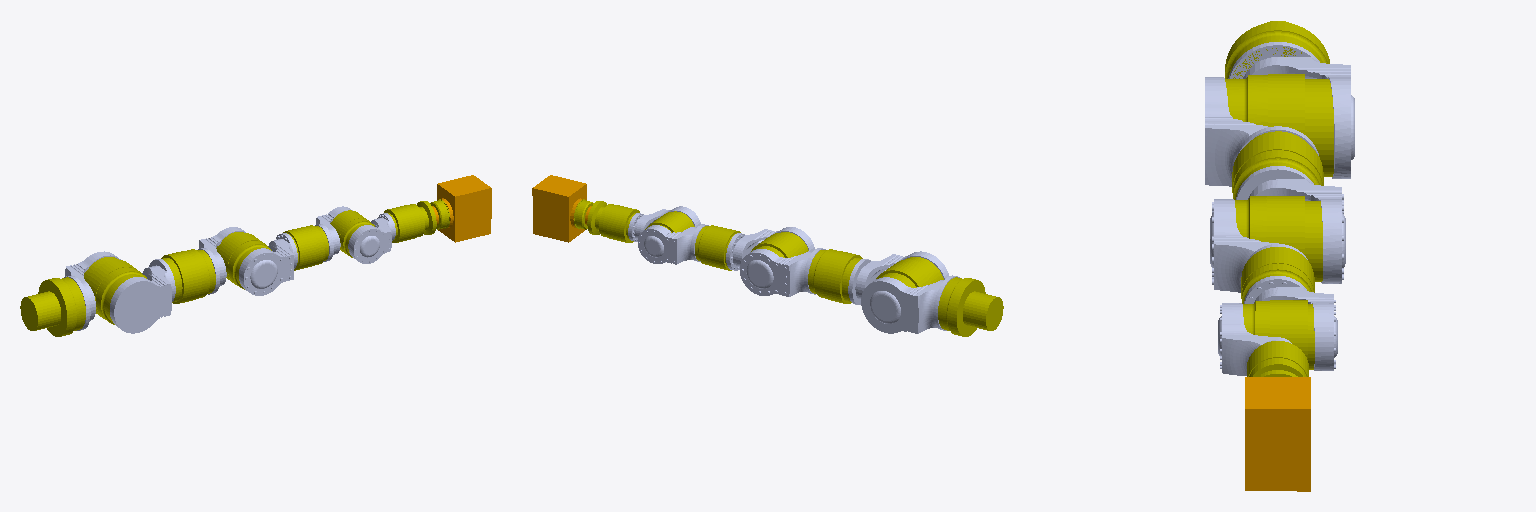
robot.urdf — SingleArm:
<?xml version="1.0" ?>
<!-- @file SingleArm.urdf -->
<!-- @author [author] -->
<!-- @date March 22, 2018 -->
<!-- @brief This file contains the .urdf definition for a single LWA3 arm. -->

<robot name = "SingleArm">

	<link name = "world" />

	<link name = "Bracket"> 
	    <inertial>
		    <!-- The inertial parameters of the Bracket don't matter. Set to zero -->
	      <mass value="0"/>
	      <inertia ixx="0" ixy="0" ixz="0" iyy="0" iyz="0" izz="0"/>
				<!-- offseted with 0.0827 because the origin of the bracket is at the bottom -->
	      <origin xyz="0 0 0"/>
	    </inertial>
		<visual> 
			<geometry> 
				<mesh filename="../scenes/bracket.dae" />
			</geometry> 
		</visual> 
		<collision> 
			<origin xyz="0.0012875 0.0582 -0.0280530"/> 
			<geometry> 
				<box size="0.2815 0.23 0.22611"/> 
			</geometry> 
		</collision> 
	</link>

	<link name = "L1">
	    <inertial>
	        <mass value="7.35"/>
	        <inertia ixx="0.0381" ixy="0.0104" ixz="0" iyy="0.0187" iyz="0" izz="0.0430"/>
	        <origin xyz="0.0217 -0.0691 0"/>
	    </inertial>
	    <visual> <geometry> <mesh filename="../scenes/Schunk/L1.dae" /> </geometry> </visual>
	    <!--collision> <geometry> <mesh filename="../scenes/Schunk/L1.dae" /> </geometry> </collision-->
        <collision> <origin xyz="0.015 -0.080866 0.0"/> <geometry> <box size="0.16 0.29367 0.13188"/> </geometry> </collision>
	</link>

	<link name = "L2">
        <inertial>
            <mass value="6.1405"/>
            <!-- <inertia ixx="0.0504" ixy="0.0006" ixz="0" iyy="0.0178" iyz="0" izz="0.0579"/> -->
	        <inertia ixx="0.0320" ixy="0.0097" ixz="0" iyy="0.0134" iyz="0" izz="0.0350"/>
            <origin xyz="0.0269 -0.0548 0"/>
        </inertial>
		<visual> <geometry> <mesh filename="../scenes/Schunk/L2.dae" /> </geometry> </visual>
		<!--collision> <geometry> <mesh filename="../scenes/Schunk/L2.dae" /> </geometry> </collision-->
		<collision> <origin xyz="0.017042 -0.058309 0.0"/> <geometry> <box size="0.14591 0.24658 0.13"/> </geometry> </collision>
	</link>

	<link name = "L3">
        <inertial>
            <mass value="4.531"/>
            <!-- <inertia ixx="0.0354" ixy="-0.0003" ixz="0" iyy="0.01" iyz="0" izz="0.0394"/> -->
            <inertia ixx="0.0180" ixy="0.005" ixz="0" iyy="0.0084" iyz="0" izz="0.0204"/>
	        <origin xyz="0.0188 -0.00619 0"/>
        </inertial>
		<visual> <geometry> <mesh filename="../scenes/Schunk/L3.dae" /> </geometry> </visual>
		<!--collision> <geometry> <mesh filename="../scenes/Schunk/L3.dae" /> </geometry> </collision-->
		<collision> <origin xyz="0.014000 -0.075113 0.0"/> <geometry> <box size="0.13800 0.26217 0.11189"/> </geometry> </collision>
	</link>

	<link name = "L4">
        <inertial>
            <mass value="3.2245"/>
            <!-- <inertia ixx="0.0209" ixy="0.0003" ixz="0" iyy="0.0067" iyz="0" izz="0.0239"/> -->
            <inertia ixx="0.0133" ixy="0.004" ixz="0" iyy="0.0049" iyz="0" izz="0.0145"/>
	        <origin xyz="0.0238 -0.0484 0"/>
        </inertial>
		<visual> <geometry> <mesh filename="../scenes/Schunk/L4.dae" /> </geometry> </visual>
		<!--collision> <geometry> <mesh filename="../scenes/Schunk/L4.dae" /> </geometry> </collision-->
		<collision> <origin xyz="0.018200 -0.052050 0.0"/> <geometry> <box size="0.12960 0.2141 0.11"/> </geometry> </collision>
	</link>

	<link name = "L5">
        <inertial>
            <mass value="2.318"/>
            <!-- <inertia ixx="0.012" ixy="-0.0002" ixz="0" iyy="0.0035" iyz="0" izz="0.0135"/> -->
            <inertia ixx="0.0063" ixy="0.0017" ixz="0" iyy="0.0029" iyz="0" izz="0.0072"/>
	        <origin xyz="0.0166 -0.0494 0"/>
        </inertial>
		<visual> <geometry> <mesh filename="../scenes/Schunk/L5.dae" /> </geometry> </visual>
		<!--collision> <geometry> <mesh filename="../scenes/Schunk/L5.dae" /> </geometry> </collision-->
        <collision> <origin xyz="0.0145115 -0.0571105 0.0000425"/> <geometry> <box size="0.117977 0.204179 0.089915"/> </geometry> </collision>
	</link>

	<link name = "L6">
        <inertial>
            <mass value="2.318"/>
            <!-- <inertia ixx="0.0104" ixy="0" ixz="0" iyy="0.0041" iyz="0" izz="0.0125"/> -->
            <inertia ixx="0.0071" ixy="0.0020" ixz="0" iyy="0.0029" iyz="0" izz="0.008"/>
	        <origin xyz="0.0232 -0.0377 0"/>
        </inertial>
		<visual> <geometry> <mesh filename="../scenes/Schunk/L6.dae" /> </geometry> </visual>
		<!--collision> <geometry> <mesh filename="../scenes/Schunk/L6.dae" /> </geometry> </collision-->
		<collision> <origin xyz="0.0175015 -0.0481615 0.0"/> <geometry> <box size="0.111977 0.185277 0.089"/> </geometry> </collision>
	</link>

	<link name = "L7_EFF">
	    <inertial>
		    <mass value="2.3838"/>
		    <inertia ixx="0.0104" ixy="0" ixz="0" iyy="0.0108" iyz="0" izz="0.0027"/>
		    <!-- <inertia ixx="0.0126" ixy="0" ixz="0" iyy="0.013" iyz="0" izz="0.0027"/> -->
			<!-- An addition of 4.05 cms from the end of Schunk gripper to space between two halves of ft -->
	        <origin xyz="0 0 0.1055"/>
	    </inertial>
		<visual> <geometry> <mesh filename="../scenes/Schunk/L7.dae" /> </geometry> <!--origin rpy="0 0 1.0"/--> </visual>
        <!-- origin on below line is orginally commented out -->
		<!--collision> <geometry> <mesh filename="../scenes/Schunk/L7.dae" /> </geometry> <origin rpy="0 0 1.0"/> </collision-->
		<collision> <origin xyz="0.0 -0.0 0.02615" rpy="0.0 0.0 1.5708"/> <geometry> <box size="0.08 0.112 0.2025"/> </geometry> </collision>
	</link>



	<joint name = "fix_arm_to_world" type="fixed">
		<parent link = "world"/>
		<child link = "Bracket"/>
	</joint>

	<joint name="LJ1" type="revolute"> <parent link="Bracket" /> <child link="L1" />
		<origin xyz = "0.2823 0.0845 0" rpy="0 3.1416 -1.5708" />
		<axis xyz="0 -1 0" /> <limit effort="1000" lower="-3.1416" upper="3.1416" velocity="0.1" />
	</joint>

	<joint name="LJ2" type="revolute"> <parent link="L1" /> <child link="L2" />
		<origin xyz="0 0.0 0" rpy="3.14 3.14 0" />
		<axis xyz="-1 0 0" /> <limit effort="1000" lower="-2.094" upper="2.094" velocity="0.1" />
	</joint>

	<joint name="LJ3" type="revolute"> <parent link="L2" /> <child link="L3" />
		<origin xyz="0 -0.328 0" rpy="-3.1416 -3.1416 0" />
		<axis xyz="0 -1 0" /> <limit effort="1000" lower="-4.7124" upper="4.7124" velocity="0.1" />
	</joint>

	<joint name="LJ4" type="revolute"> <parent link="L3" /> <child link="L4" />
		<origin xyz="0 0 0" rpy="3.1416 3.1416 0" />
		<axis xyz="-1 0 0" /> <limit effort="1000" lower="-2.094" upper="2.094" velocity="0.1" />
	</joint>

	<joint name="LJ5" type="revolute"> <parent link="L4" /> <child link="L5" />
		<origin xyz="0 -0.2765 0" rpy="3.1416 3.1416 0" />
		<axis xyz="0 -1 0" /> <limit effort="1000" lower="-4.7124" upper="4.7124" velocity="0.1" />
	</joint>

	<joint name="LJ6" type="revolute"> <parent link="L5" /> <child link="L6" />
		<origin xyz="0 0 0" rpy="0 0 3.1416" />
		<axis xyz="-1 0 0" /> <limit effort="1000" lower="-2.094" upper="2.094" velocity="0.1" />
	</joint>

	<!-- For some reason, I had to negate the axis to make sure the motor turns like the others -->
	<joint name="LJFT" type="revolute"> <parent link="L6" /> <child link="L7_EFF" />
		<origin xyz="0 -0.200 0" rpy="1.5708 4.7124 0" />
		<axis xyz="0 0 -1" /> <limit effort="1000" lower="-4.7124" upper="4.7124" velocity="0.1" />
	</joint>

</robot>

--- Render facts (derived) ---
The picture shows the robot from 3 angles, left to right: view 1: azimuth 30°, elevation 25°; view 2: azimuth 150°, elevation 25°; view 3: azimuth 270°, elevation 25°; orthographic projection.
Model SingleArm with 9 links and 8 joints (7 revolute, 1 fixed), rooted at world, posed every joint at zero.
Visible links, largest first — view 1: L2, L1, L4, L7_EFF, L6, L3, L5; view 2: L1, L3, L7_EFF, L2, L5, L4, L6; view 3: L1, L3, L7_EFF, L2, L5, L4, L6.
Boxes of the visible links, box(x1,y1,x2,y2) form: L2: box(96, 251, 201, 333); L1: box(20, 251, 140, 336); L4: box(228, 227, 318, 295); L7_EFF: box(408, 175, 491, 242); L6: box(340, 205, 417, 263); L3: box(187, 227, 265, 298); L5: box(306, 206, 368, 264); L1: box(861, 263, 1003, 336); L3: box(740, 236, 836, 298); L7_EFF: box(532, 175, 615, 242); L2: box(822, 251, 948, 304); L5: box(638, 215, 717, 264); L4: box(705, 227, 814, 270); L6: box(606, 205, 700, 242); L1: box(1225, 21, 1354, 178); L3: box(1233, 150, 1345, 283); L7_EFF: box(1245, 358, 1310, 491); L2: box(1205, 75, 1323, 192); L5: box(1242, 263, 1337, 370); L4: box(1210, 196, 1314, 298); L6: box(1218, 301, 1308, 376).
Size in the robot's own frame: 1.16 by 0.1851 by 0.1319 metres.
7 mesh visuals loaded from 8 distinct referenced files (7 Collada DAE); not drawn: 1 (file found but could not be loaded).